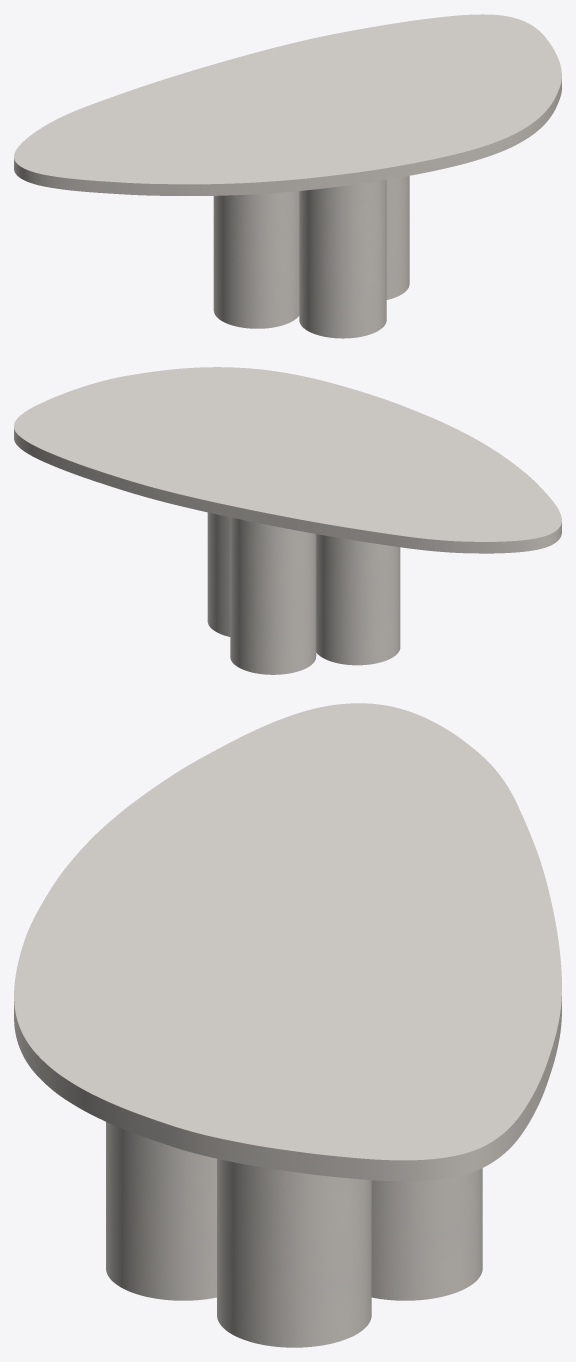
The model's file is pearlwhite_pebbletop_standard_secondtable.glb.
The picture shows the model from 3 angles, top to bottom: view 1: azimuth 30°, elevation 25°; view 2: azimuth 150°, elevation 25°; view 3: azimuth 270°, elevation 25°; orthographic projection. The views are drawn at different scales.
Visible parts, largest first — view 1: standard_pebbletop, secondtable; view 2: standard_pebbletop, secondtable; view 3: standard_pebbletop, secondtable.
Boxes of the visible parts, x1=… form: standard_pebbletop: x1=14, y1=14, x2=561, y2=195; secondtable: x1=213, y1=176, x2=409, y2=338; standard_pebbletop: x1=14, y1=367, x2=561, y2=553; secondtable: x1=207, y1=512, x2=400, y2=674; standard_pebbletop: x1=14, y1=703, x2=561, y2=1181; secondtable: x1=106, y1=1122, x2=482, y2=1347.
Bounding box in the file's own units: 7.5 × 2.51 × 3.8.
1 material, 1 textured.
